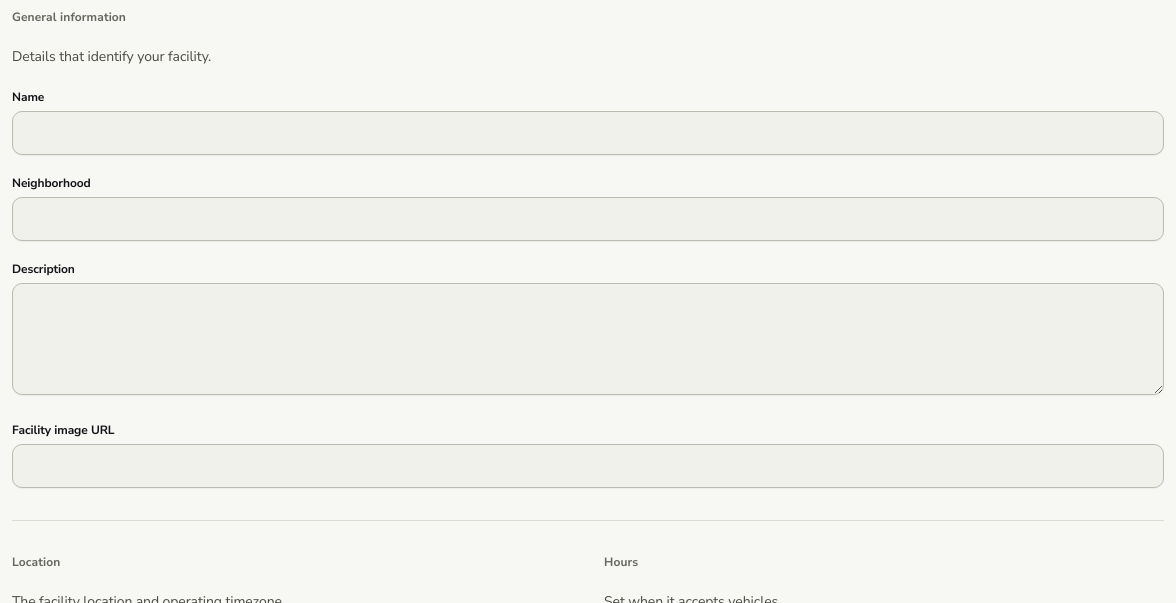
Scenario: create parking workflow › shows the active-session count when the API rejects a capacity reduction
The image size is (1176, 603).
Type "North Garage" into the field labelled "Name" at (588, 133), box [12,111,1164,155]
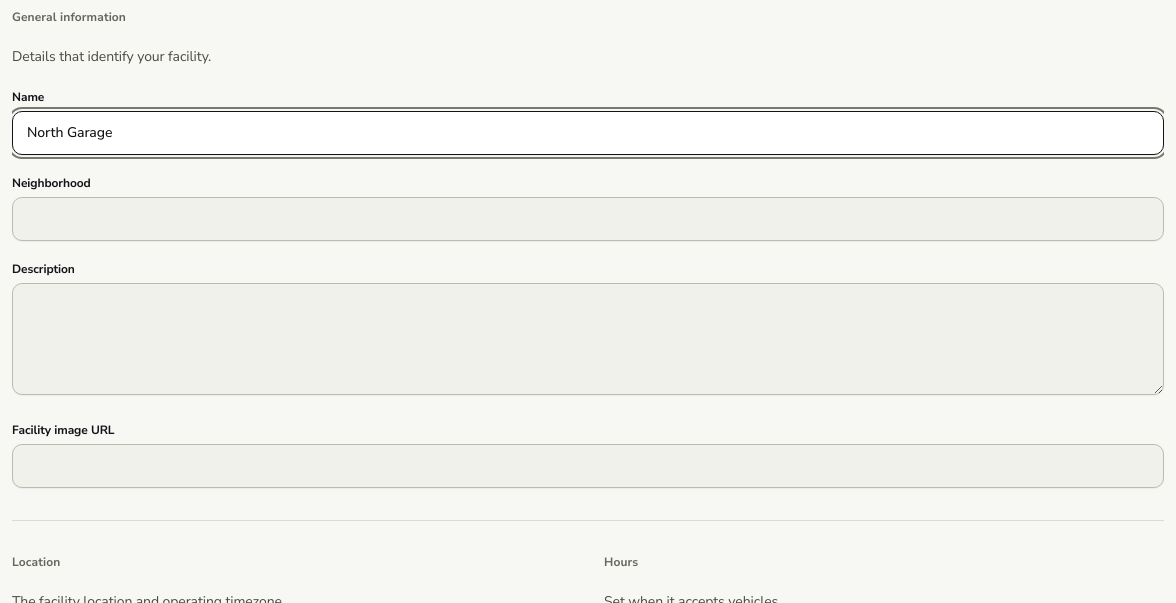
Type "Downtown" into the field labelled "Neighborhood" at (588, 219), box [12,197,1164,241]
(page scrolled)
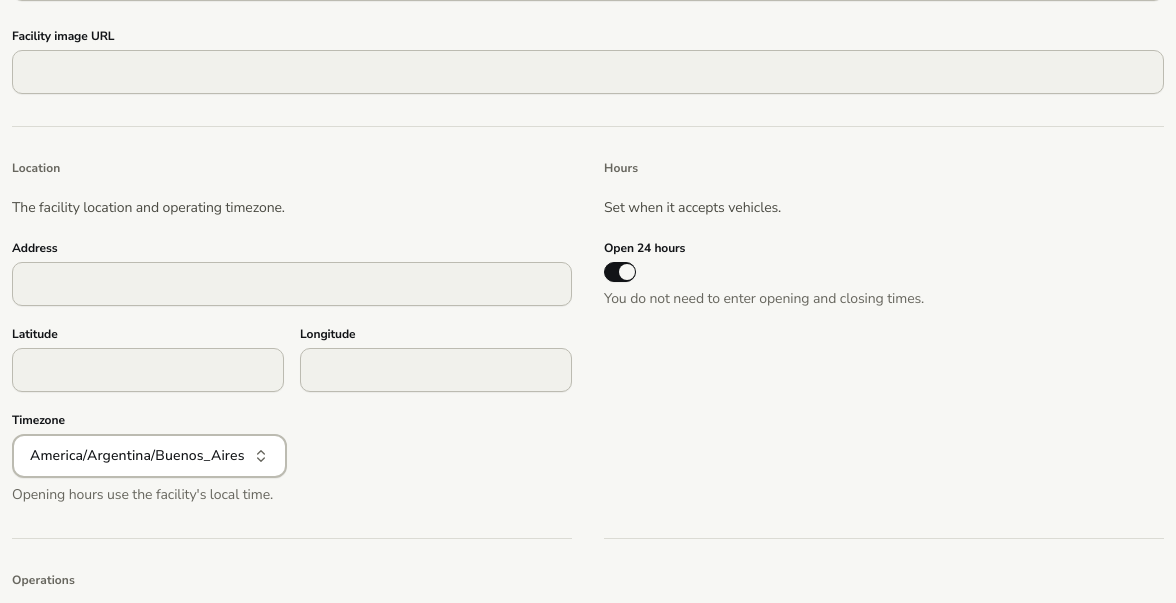
Type "202 North Street" into the field labelled "Address" at (292, 284), box [12,262,572,306]
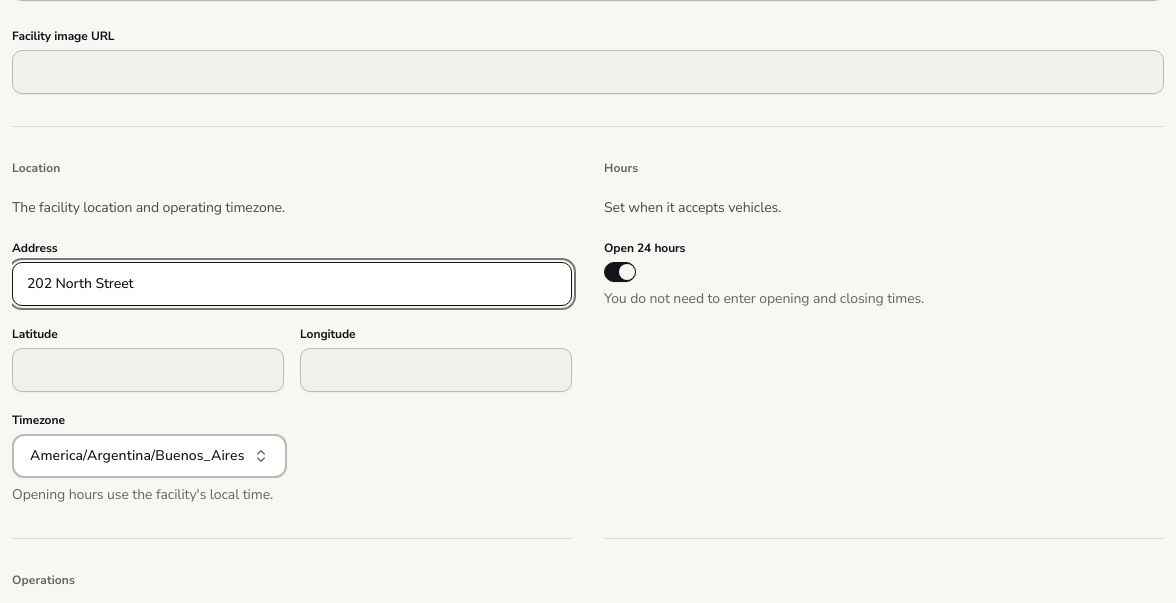
Type "-34.61" into the number field labelled "Latitude" at (148, 370), box [12,348,284,392]
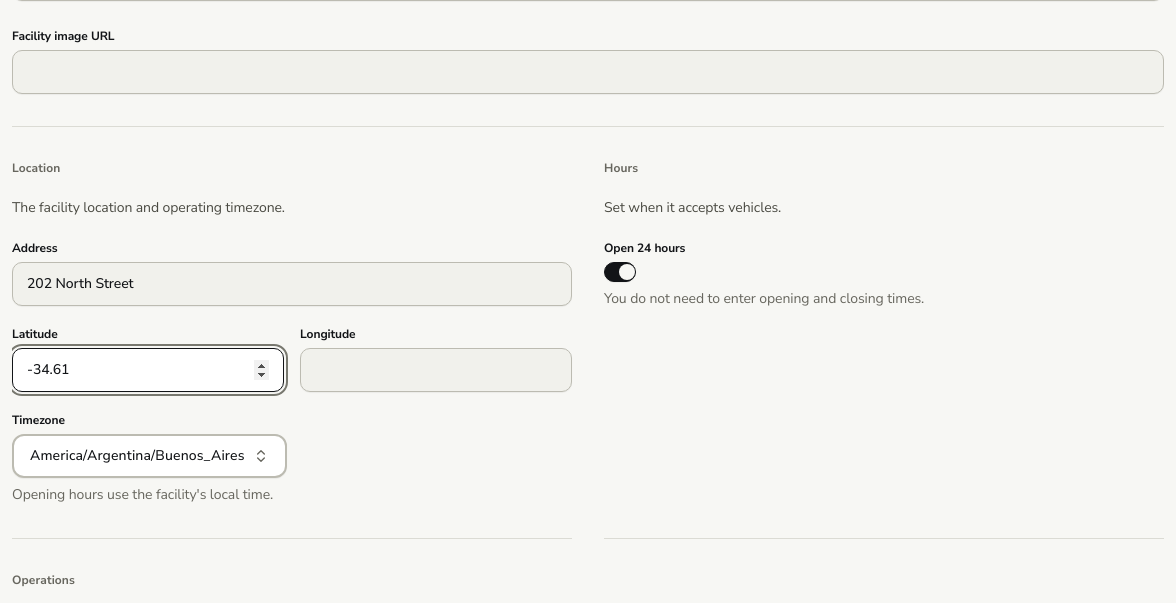
Type "-58.38" into the number field labelled "Longitude" at (436, 370), box [300,348,572,392]
(page scrolled)
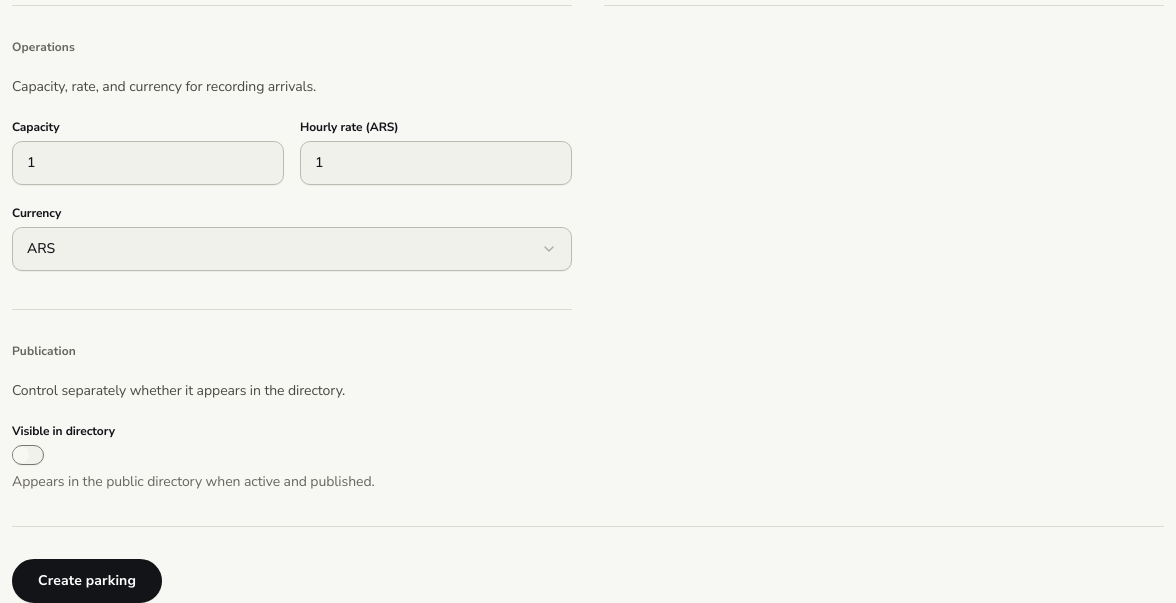
Click the button "Create parking" at (87, 580), box [12,558,162,602]
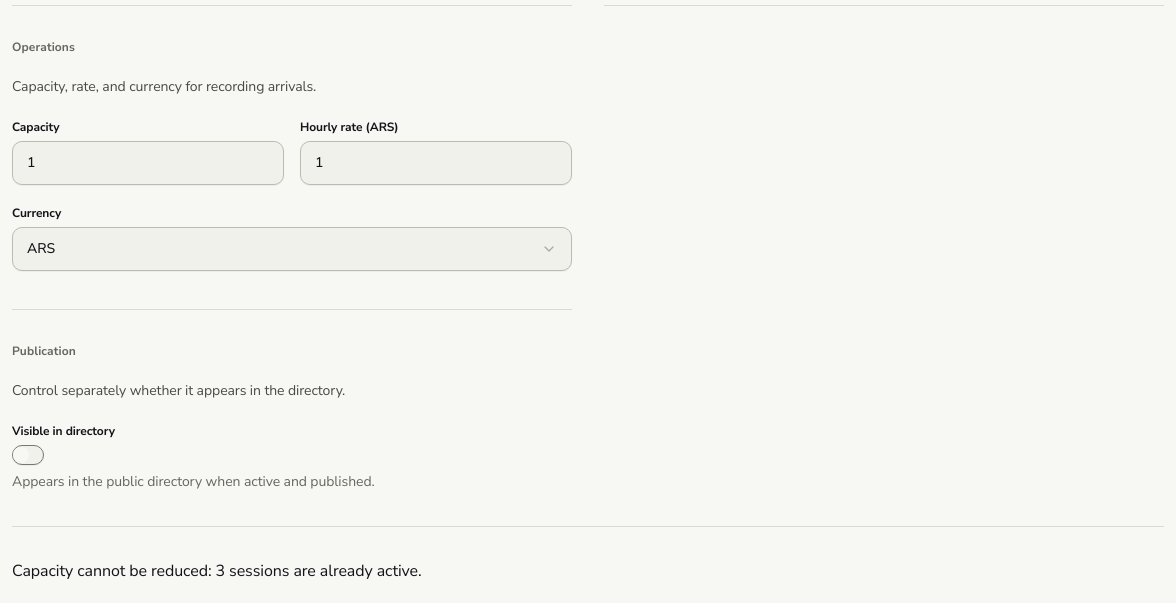
Expected: the message reads "Capacity cannot be reduced: 3 sessions are already active.", [12,560,422,582]
